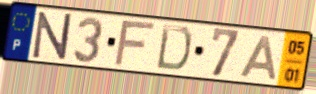3: (71, 15, 105, 65)
7: (210, 26, 241, 80)
A: (237, 34, 278, 83)
D: (154, 23, 194, 74)
F: (111, 20, 159, 69)
N: (31, 11, 74, 62)
